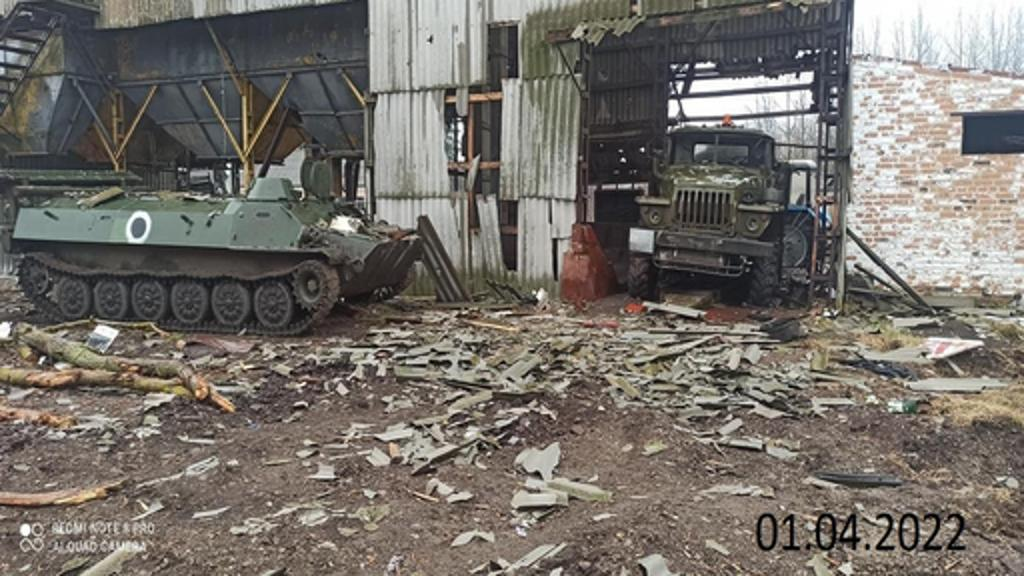APC-IFV: (14, 160, 430, 324)
TRUCK: (622, 118, 790, 302)
